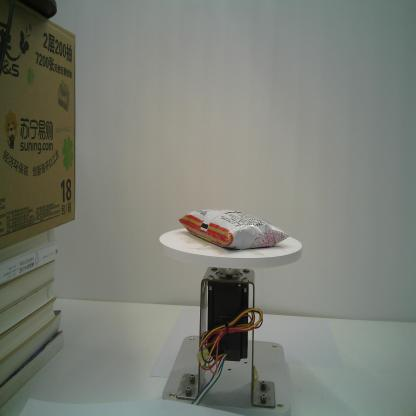Seasoner: (176, 204, 292, 254)
